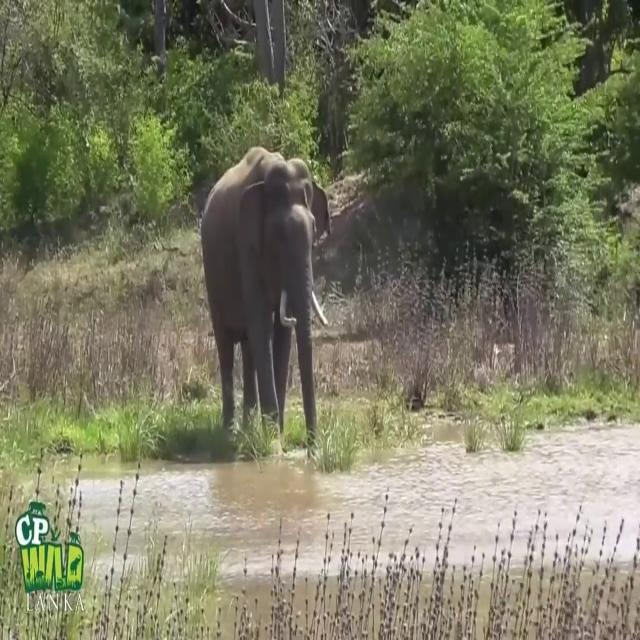Elephant: (200, 145, 330, 454)
